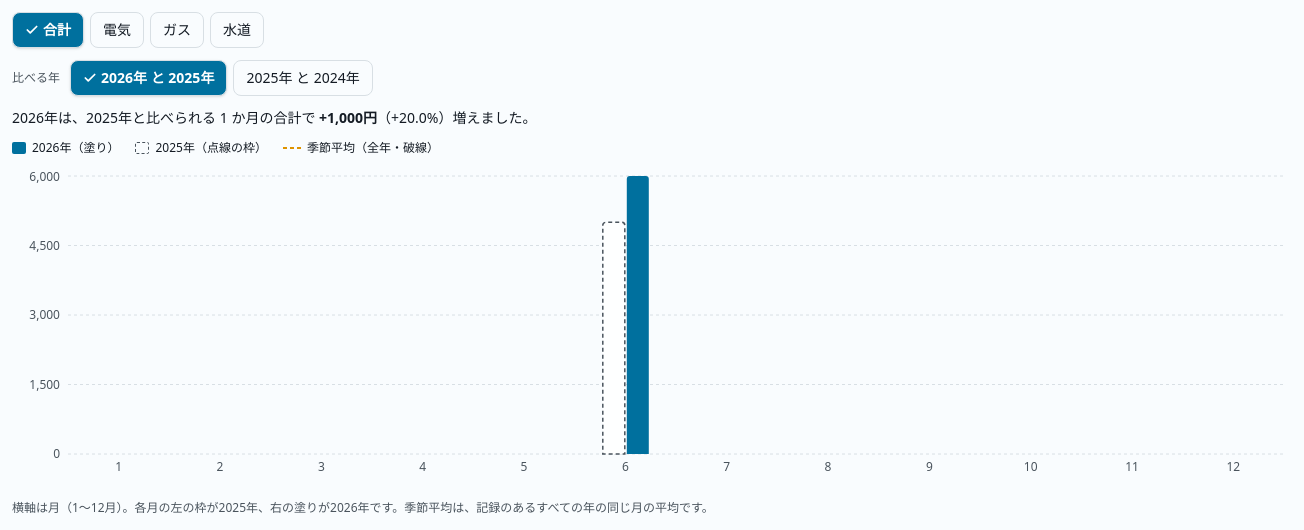
Scenario: YoYChart › marks the selected chips with aria-pressed and lets an older pair be compared
Click the button "2025年 と 2024年".
click(303, 78)  # box [233,60,373,96]
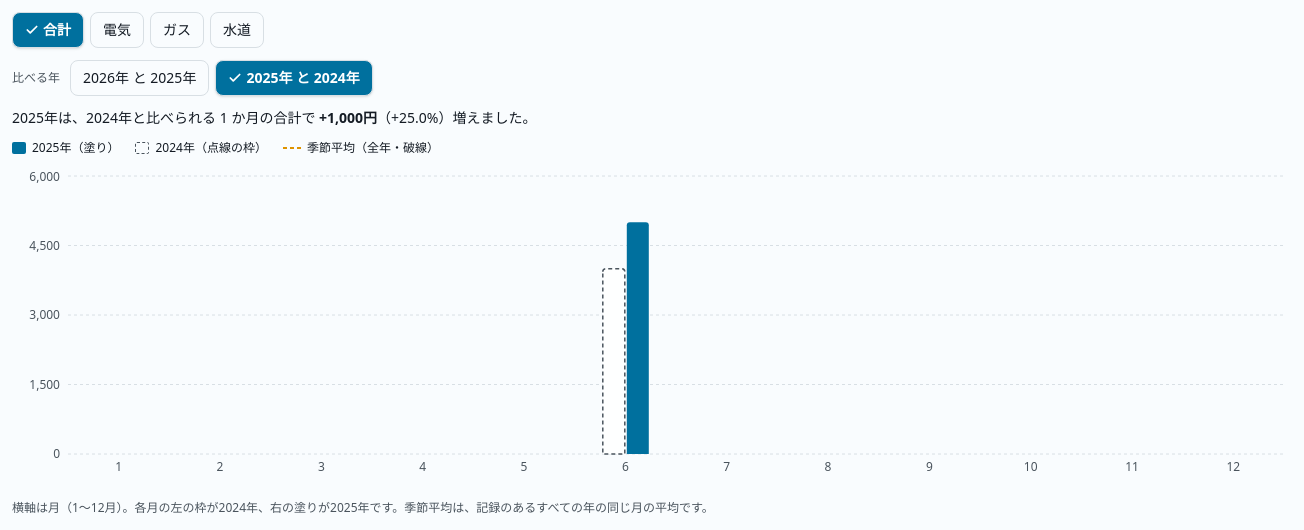
Now the text "2025年は、2024年と比べられる 1 か月の合計で +1,000円（+25.0%）増えました。" is shown, box [12,108,536,127]
